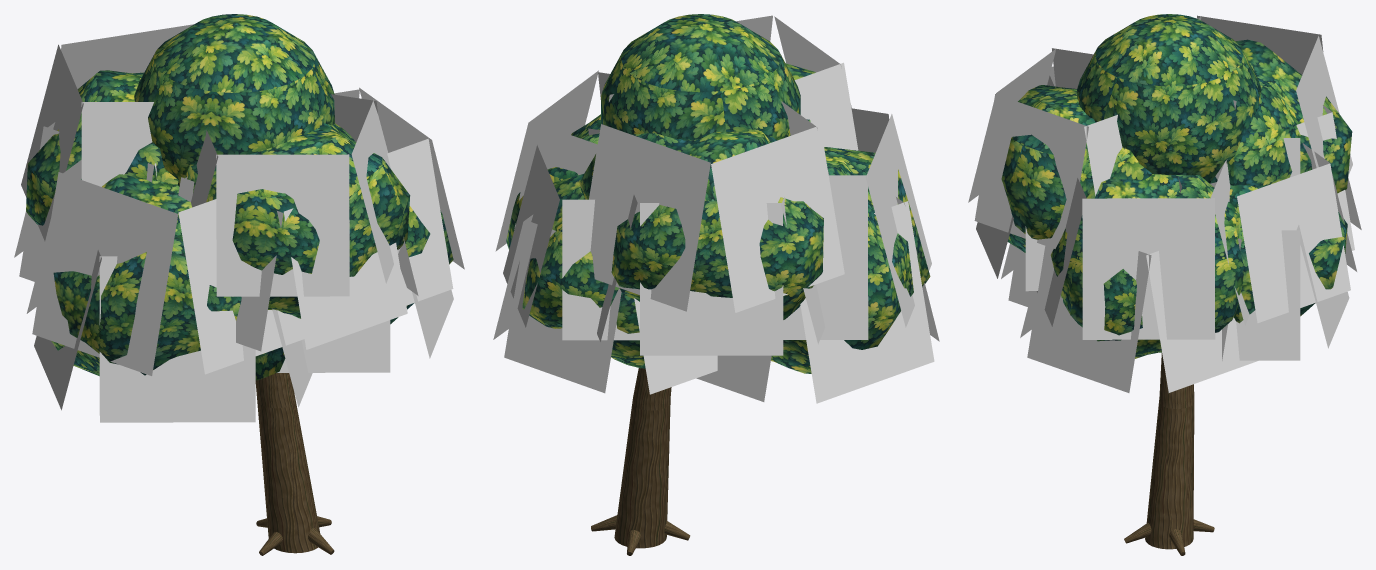
File: Tree_Shade.fbx
3 views of the same model, side by side, from view 1: azimuth 30°, elevation 25°; view 2: azimuth 150°, elevation 25°; view 3: azimuth 270°, elevation 25° (orthographic). The views are drawn at different scales.
Visible parts, largest first — view 1: Tree_Shade.001; view 2: Tree_Shade.001; view 3: Tree_Shade.001.
Part boxes in pixels (left/top/right/bottom): Tree_Shade.001: left=14, top=14, right=464, bottom=555; Tree_Shade.001: left=493, top=14, right=939, bottom=555; Tree_Shade.001: left=968, top=14, right=1361, bottom=555.
Bounding box in the file's own units: 590 × 748 × 545.
Materials: 3 (2 with a texture image).
